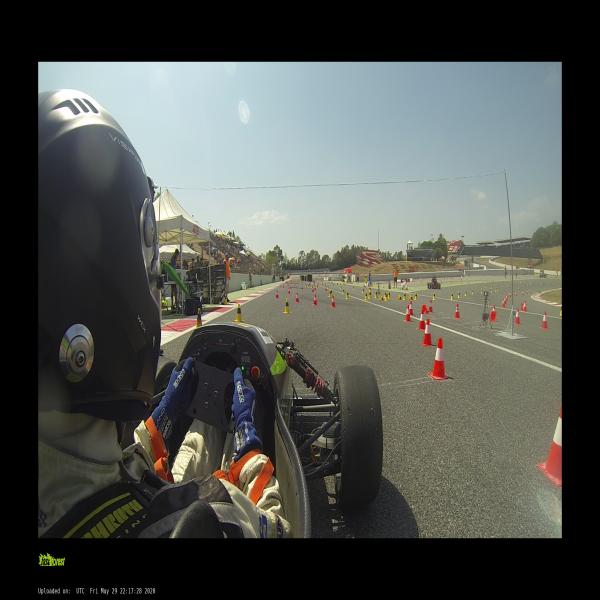orange_cone: (539, 386, 562, 485), (428, 337, 449, 379), (421, 318, 432, 346), (418, 309, 426, 330), (453, 303, 461, 321), (404, 304, 411, 322), (542, 311, 548, 330), (514, 308, 520, 325), (408, 300, 414, 314), (491, 305, 496, 318), (522, 301, 527, 312), (331, 296, 336, 307), (490, 312, 496, 321), (429, 300, 433, 312), (422, 304, 428, 312), (295, 293, 299, 303), (313, 295, 317, 305), (275, 290, 279, 299), (503, 297, 506, 305), (521, 303, 525, 309), (502, 300, 504, 308), (505, 294, 507, 301), (325, 286, 327, 292), (506, 293, 508, 299), (514, 292, 516, 297), (288, 289, 290, 294), (522, 291, 524, 296), (312, 287, 314, 292), (526, 290, 528, 295), (301, 285, 303, 289), (289, 285, 291, 289), (529, 289, 531, 293), (509, 293, 511, 297), (518, 287, 520, 290), (508, 285, 510, 288), (314, 286, 315, 290), (283, 285, 284, 288)
yellow_cone: (235, 304, 243, 321), (283, 298, 291, 313), (196, 309, 202, 328), (223, 293, 227, 303), (368, 290, 372, 299), (559, 305, 562, 316), (450, 292, 454, 300), (365, 291, 368, 300), (346, 291, 349, 299), (403, 292, 406, 300), (433, 292, 436, 300), (388, 291, 391, 299), (380, 295, 384, 301), (398, 294, 402, 300), (342, 288, 345, 295), (375, 291, 378, 298), (409, 295, 414, 299), (471, 289, 474, 295), (464, 290, 467, 296), (415, 292, 417, 300), (386, 292, 388, 300), (384, 290, 386, 298), (458, 291, 460, 298), (329, 290, 331, 297), (480, 288, 482, 294), (369, 286, 371, 292), (330, 290, 332, 296), (352, 285, 354, 290), (362, 288, 364, 293), (316, 284, 318, 289), (308, 284, 310, 288), (327, 285, 329, 289), (340, 285, 342, 289), (495, 288, 497, 292), (484, 284, 486, 288), (305, 284, 307, 288), (311, 284, 313, 288), (497, 287, 498, 291), (491, 284, 492, 288), (491, 289, 492, 292)
